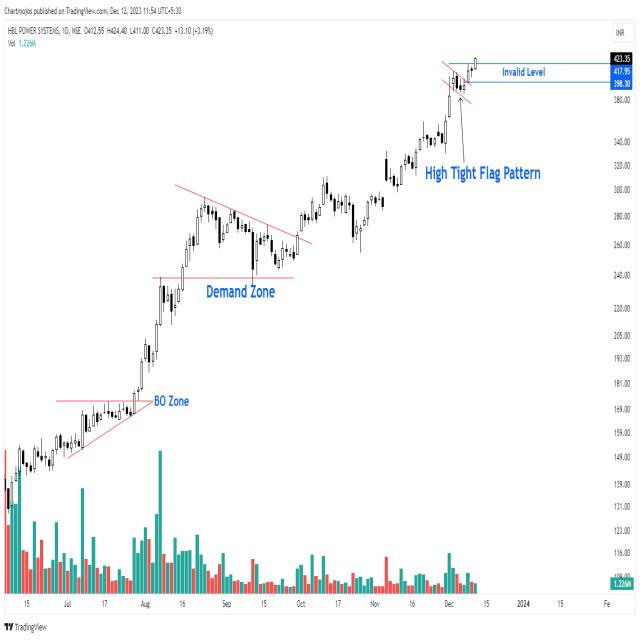Ascending-Triangle: (46, 402, 150, 473)
Descending-Triangle: (157, 176, 383, 276)
Rising-Wedge: (307, 108, 466, 253)
